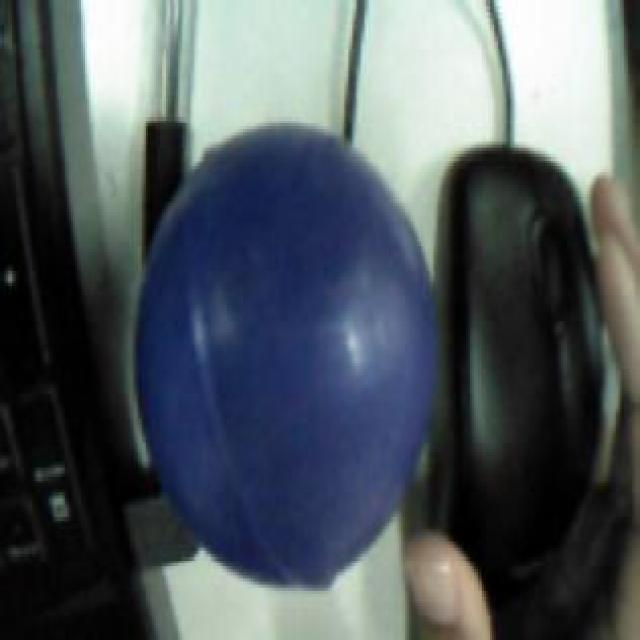BallPurple: (134, 121, 439, 591)
